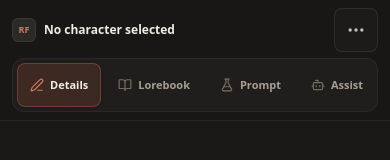
Test: ContextBar › does not offer Pre-Flight Audit in More actions without an active card
Click the button named "More actions": (356, 30) left=334, top=8, right=378, bottom=52
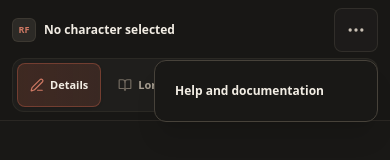
expect the button "Help and documentation" is shown: met, box left=163, top=69, right=369, bottom=113
